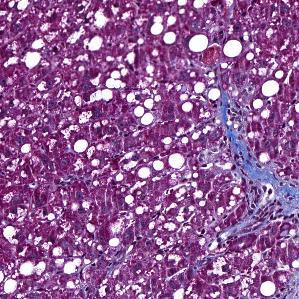fibrosis: (213, 108, 299, 214)
